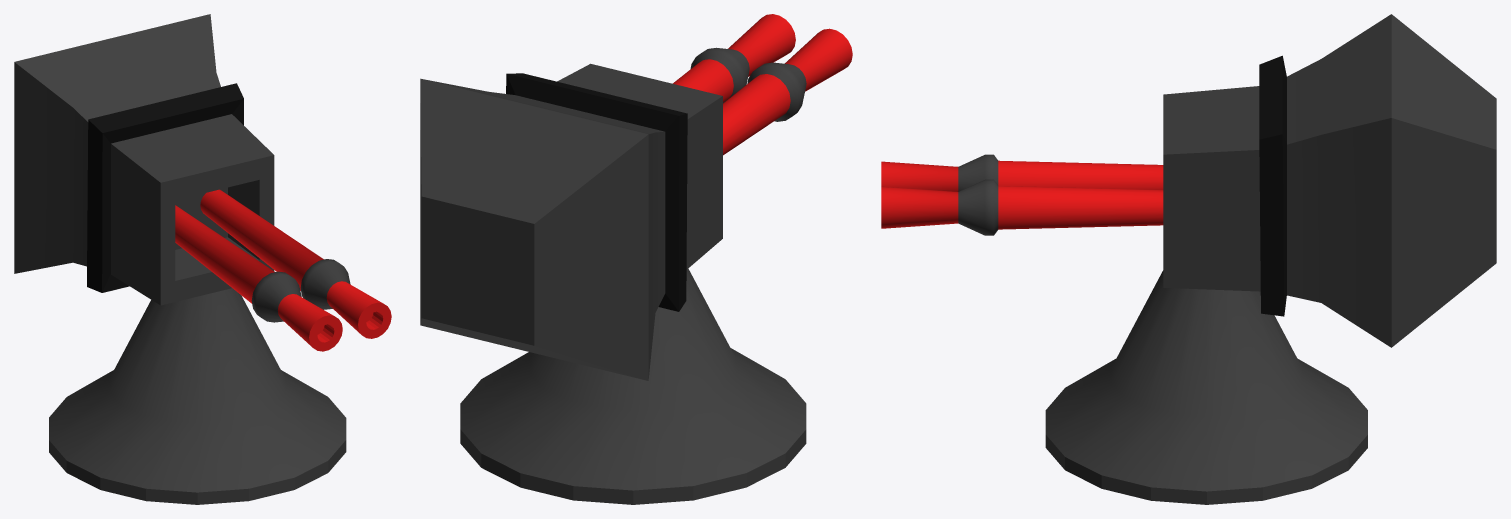
File: LPTurret.fbx
3 views of the same model, side by side, from view 1: azimuth 30°, elevation 25°; view 2: azimuth 150°, elevation 25°; view 3: azimuth 270°, elevation 25° (orthographic). The views are drawn at different scales.
Visible parts, largest first — view 1: Box001, m, Sphere001, Cylinder003; view 2: Box001, m, Cylinder003, Sphere001; view 3: Box001, m, Sphere001, Cylinder003.
Part boxes in pixels (box(x1,y1,x2,y2)): Box001: box(14, 14, 274, 305); m: box(49, 288, 346, 504); Sphere001: box(200, 189, 391, 338); Cylinder003: box(175, 205, 342, 351); Box001: box(420, 63, 722, 380); m: box(460, 268, 806, 504); Cylinder003: box(723, 28, 852, 155); Sphere001: box(673, 14, 795, 102); Box001: box(1163, 14, 1496, 347); m: box(1045, 270, 1367, 504); Sphere001: box(881, 179, 1163, 235); Cylinder003: box(881, 154, 1163, 191).
Size of the model in its own units: 12.9 by 16.07 by 24.23.
